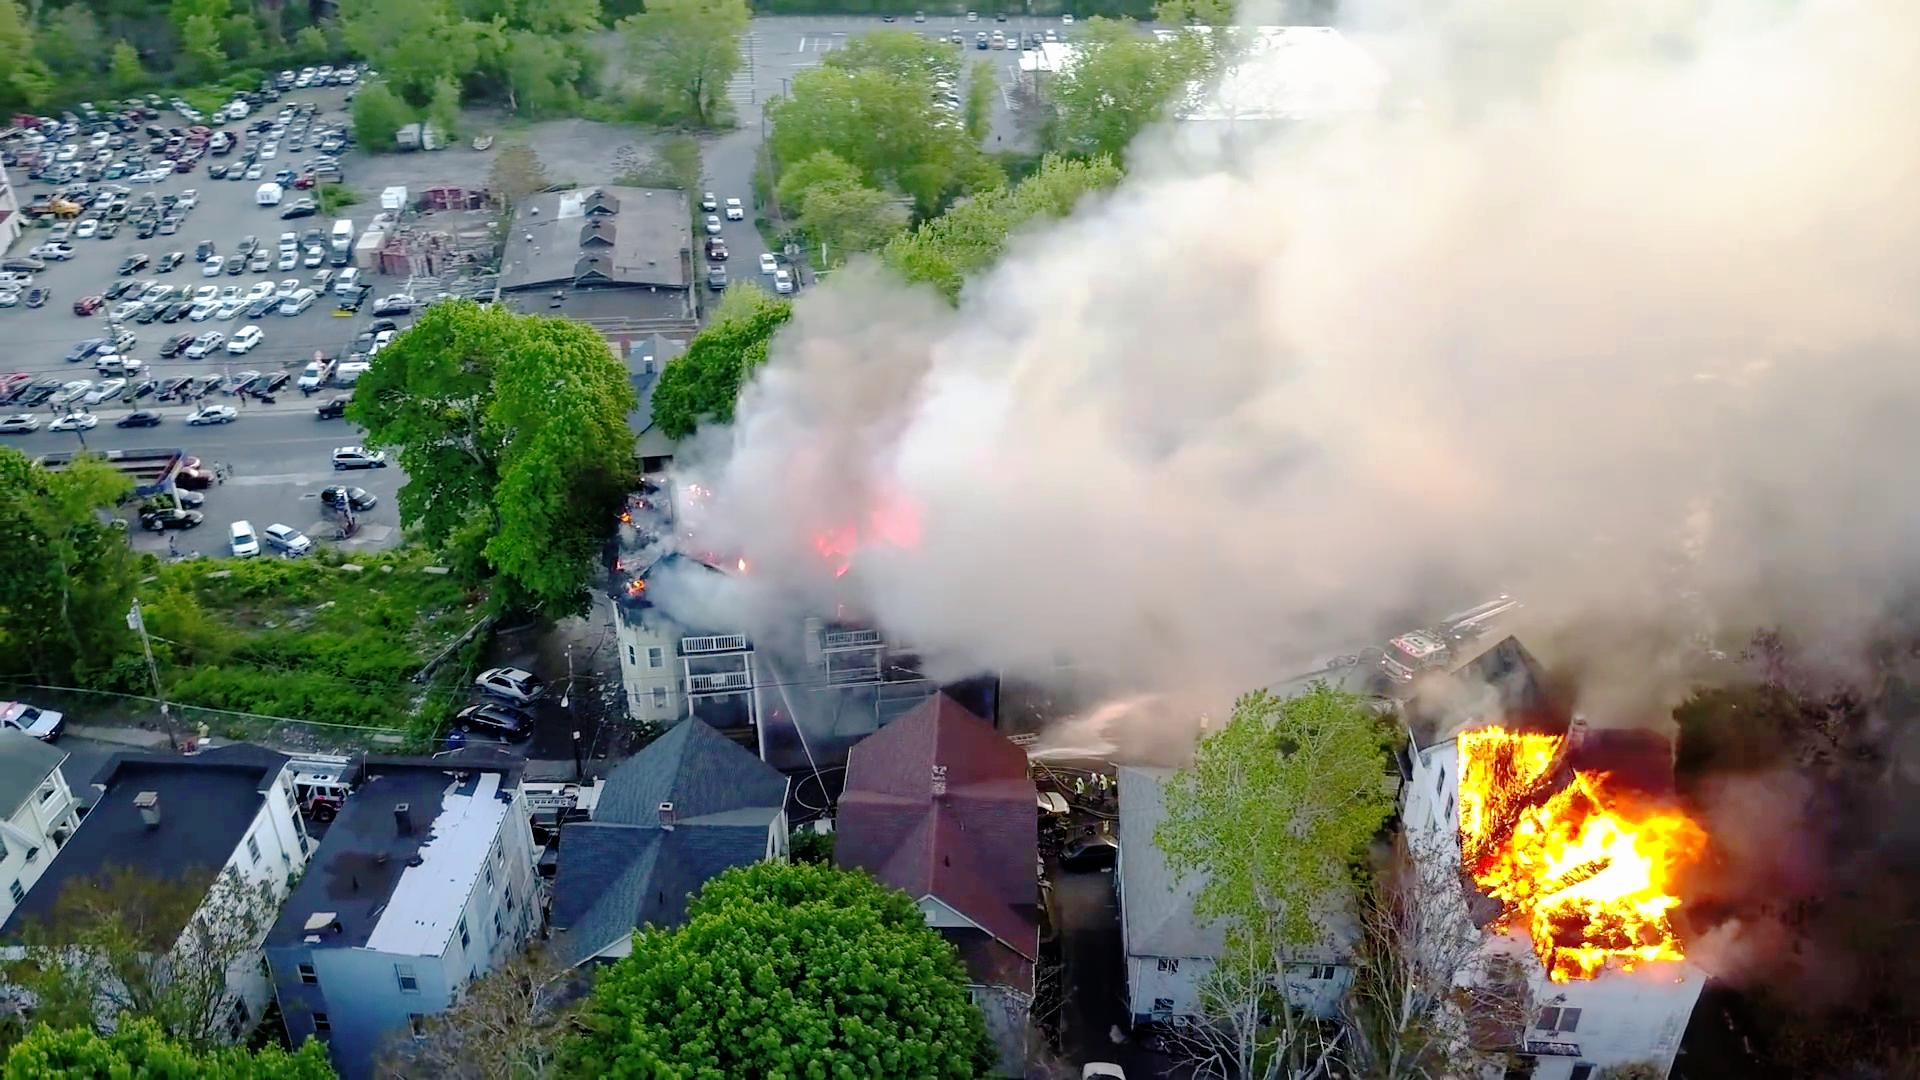fire: (1437, 729, 1701, 959)
smoke: (930, 360, 1309, 616)
